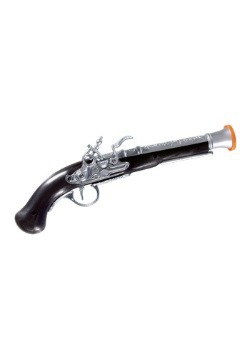Arma Falsa: (15, 124, 240, 234)
